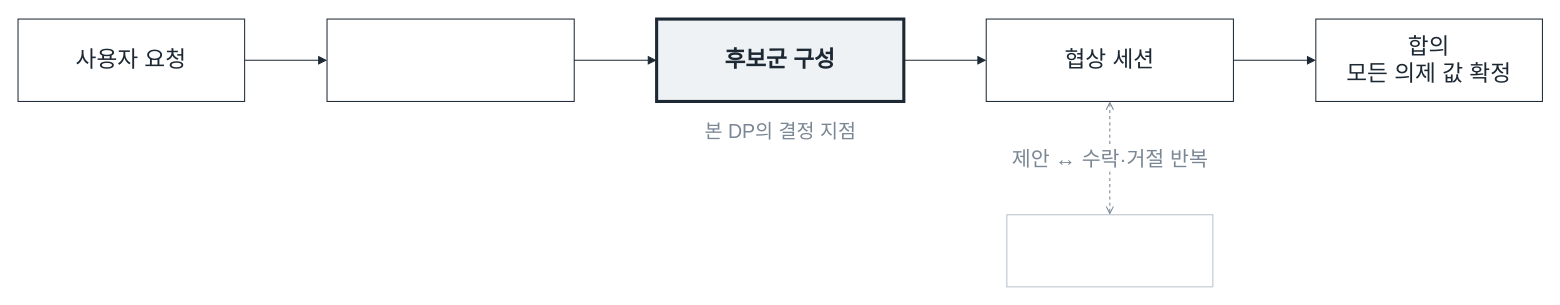
The diagram is 1560 pixels wide and 305 high, and some of its shapes have lost their labels. Each missing label, with the centre of its shape:
"Planner (LLM) 의제 목록 생성" goes at pixel 450 59.
"상대 단말" goes at pixel 1109 250.
